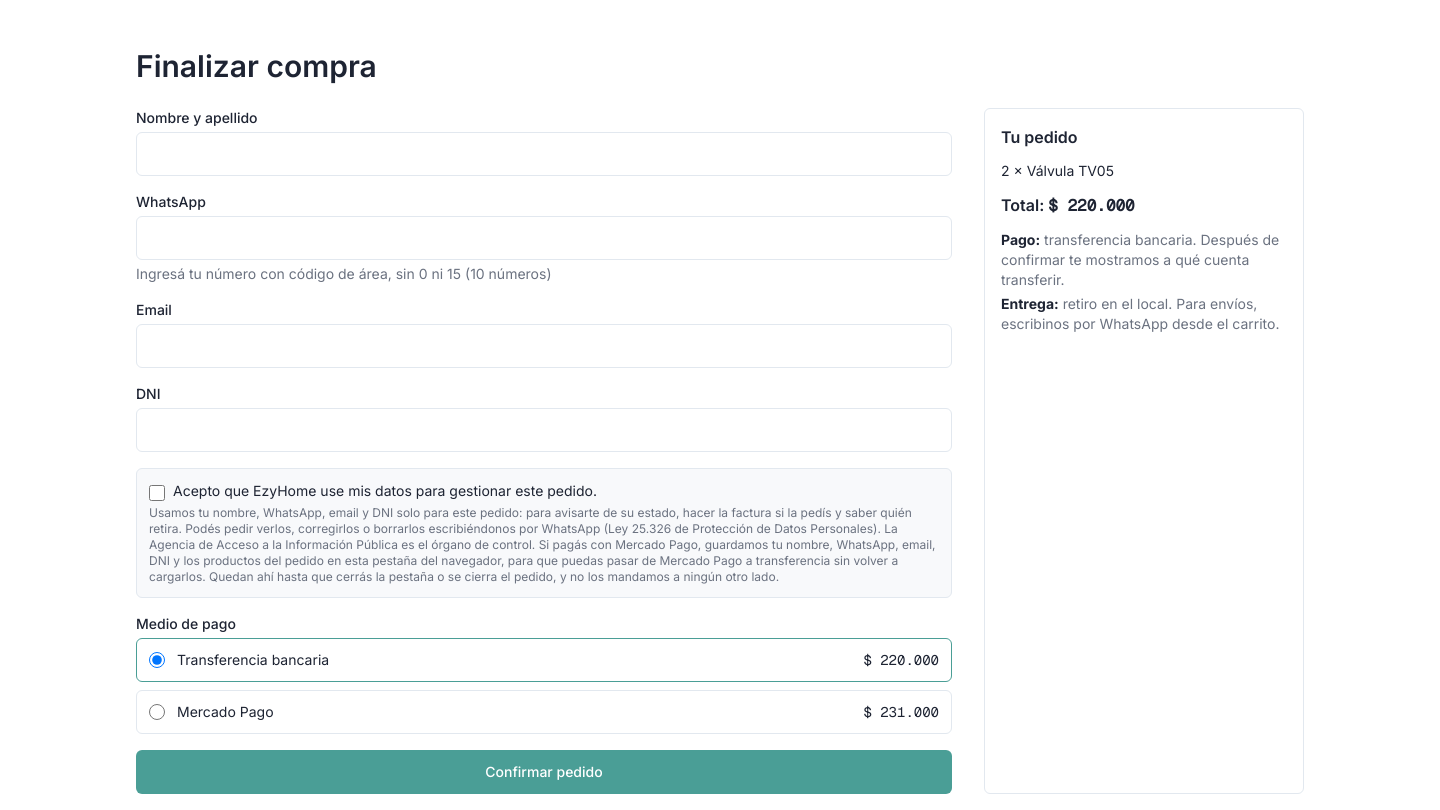
Scenario: CheckoutPage › with Mercado Pago enabled › should show the Mercado Pago total when the buyer picks it
Step 1. Click the radio button labelled "Mercado Pago $ 231.000" → (157, 712), box [149, 704, 165, 720]
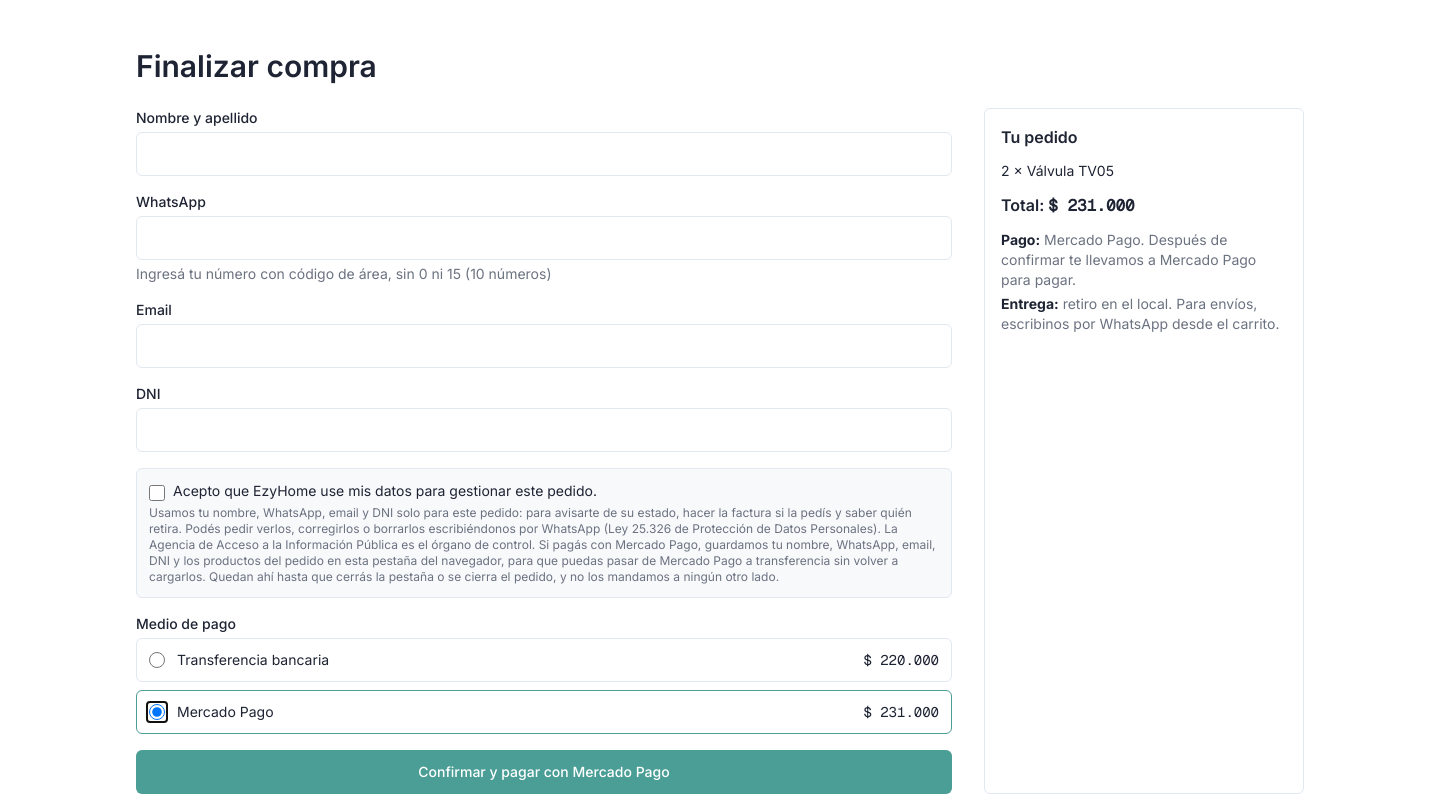
Expected: the element with test id "checkout-total" shows "231.000", [1048, 195, 1135, 216]
Expected: the button "Confirmar y pagar con Mercado Pago" is shown, [136, 750, 952, 794]
